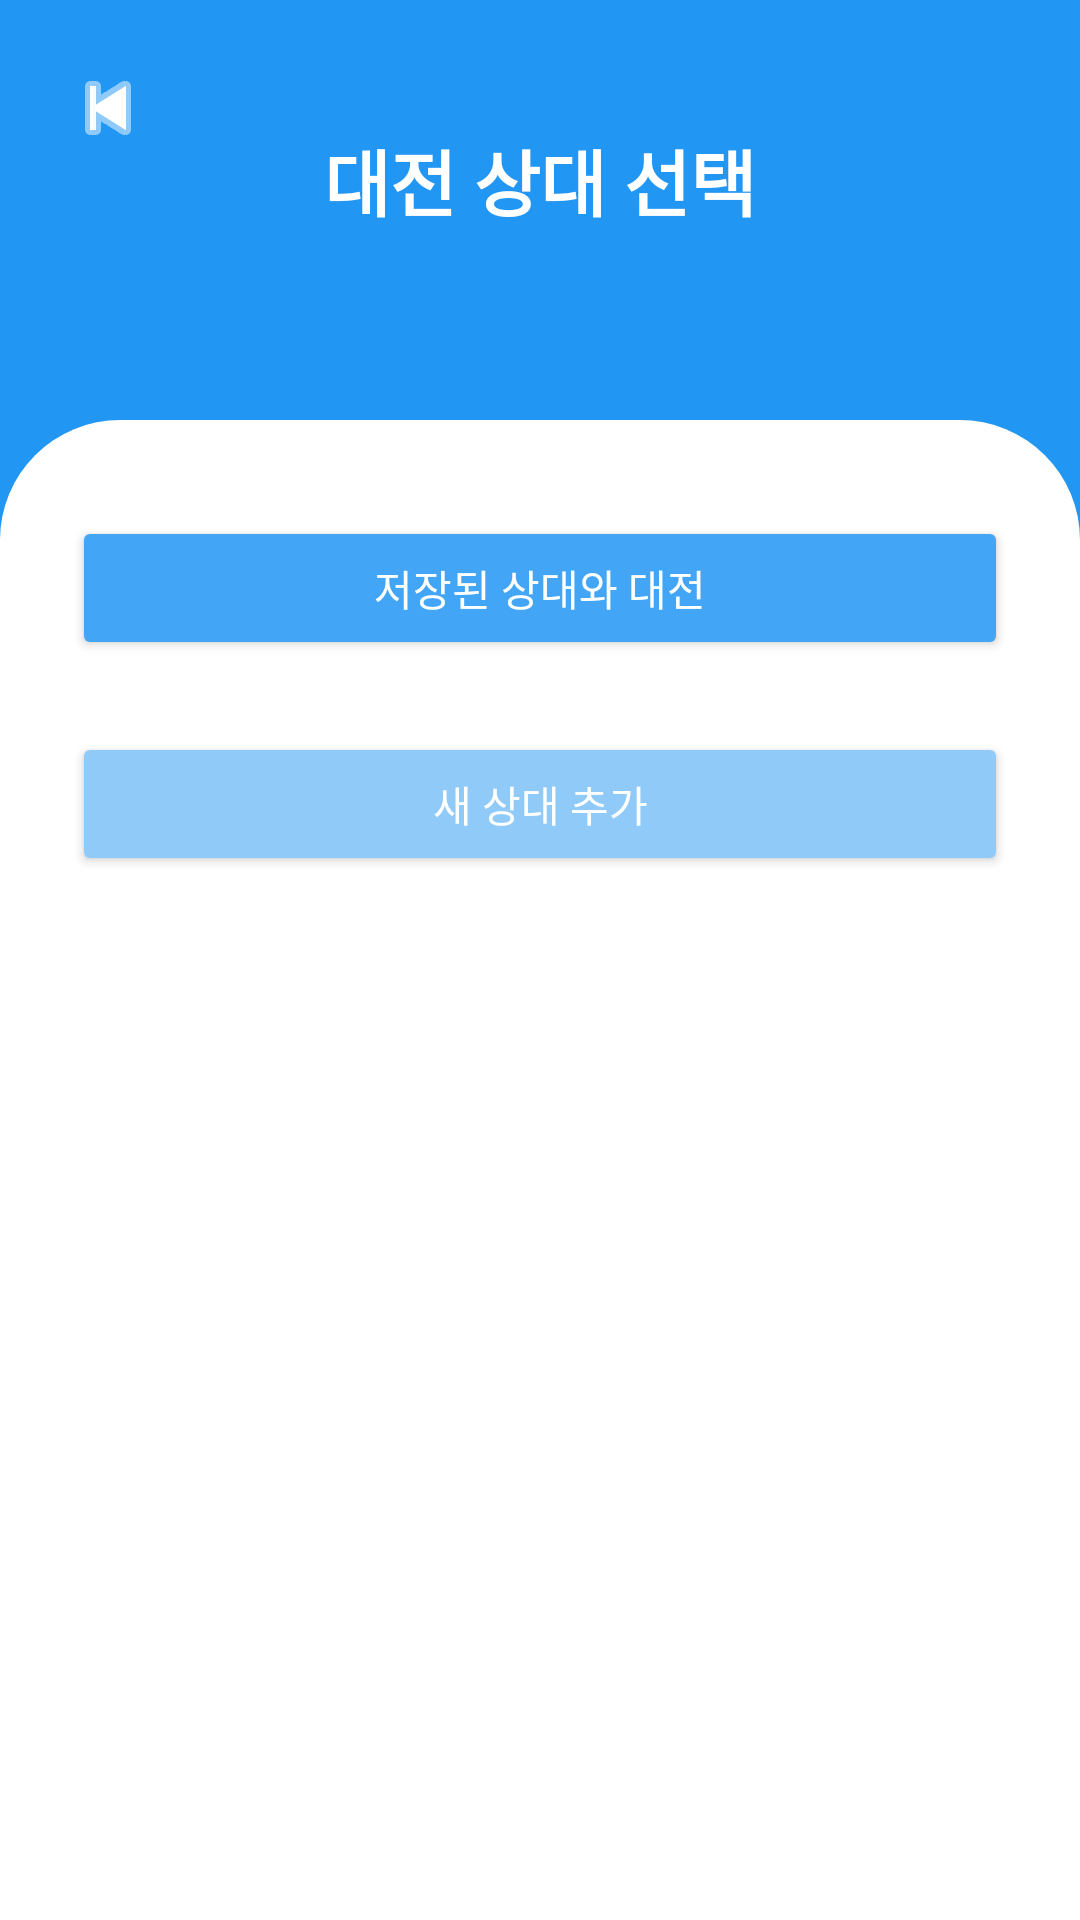

Where to tap for icons on this 1080x1920 app screen, as point (x, y):
뒤로가기: point (108, 108)
